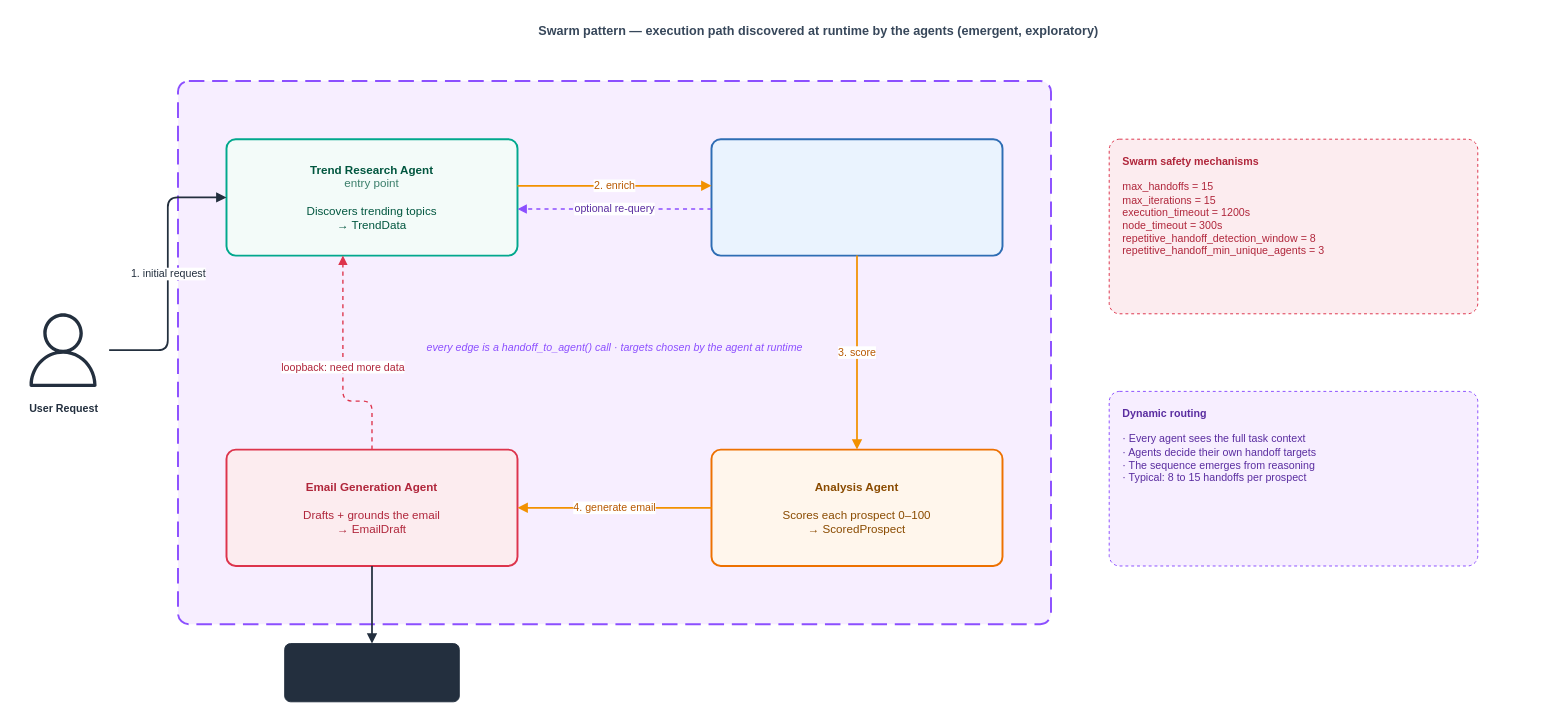
Some shapes in this 1553 by 719 pixel diagram are drawn without their labels. Each missing label, with the box of its shape:
Scored Leads + Email Drafts: (284, 643, 459, 702)
Search Specialist Agent Enriches each prospect → EnrichmentData: (710, 138, 1003, 256)
Shared Working Memory · full task context visible to every agent: (177, 80, 1051, 625)
